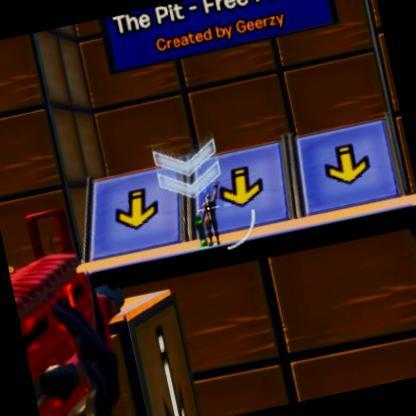person: (201, 195, 219, 236)
